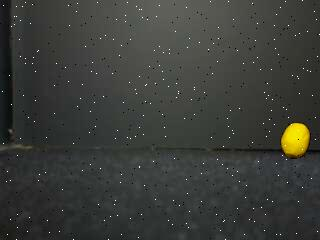Lemon: (281, 122, 311, 160)
